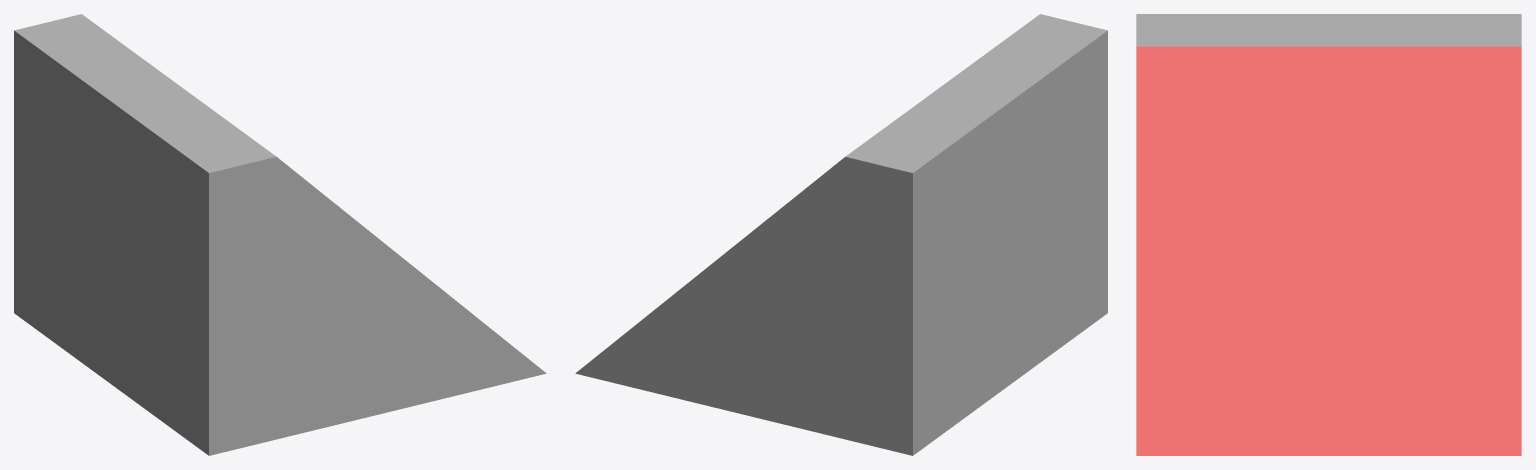
The picture shows the model from 3 angles, left to right: view 1: azimuth 30°, elevation 25°; view 2: azimuth 150°, elevation 25°; view 3: azimuth 270°, elevation 25°; orthographic projection.
Visible parts, largest first — view 1: 7-13.SLDPRT; view 2: 7-13.SLDPRT; view 3: 7-13.SLDPRT.
Boxes of the visible parts, bbox=[...] form: 7-13.SLDPRT: bbox=[14, 14, 546, 455]; 7-13.SLDPRT: bbox=[575, 14, 1107, 455]; 7-13.SLDPRT: bbox=[1136, 14, 1521, 455].
Bounding box in the file's own units: 0.05 × 0.04 × 0.05.
